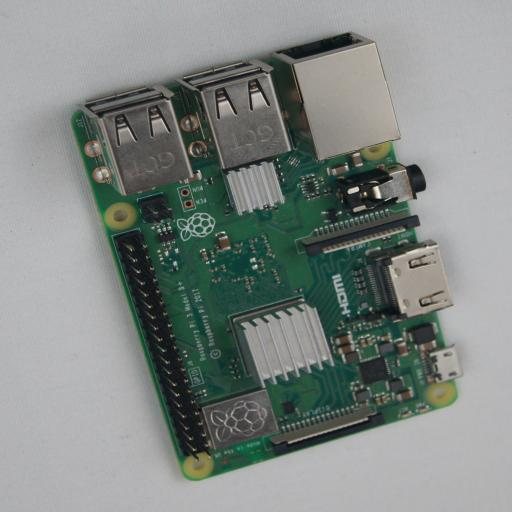Raspberry Pi 3 B-: (70, 32, 456, 480)
